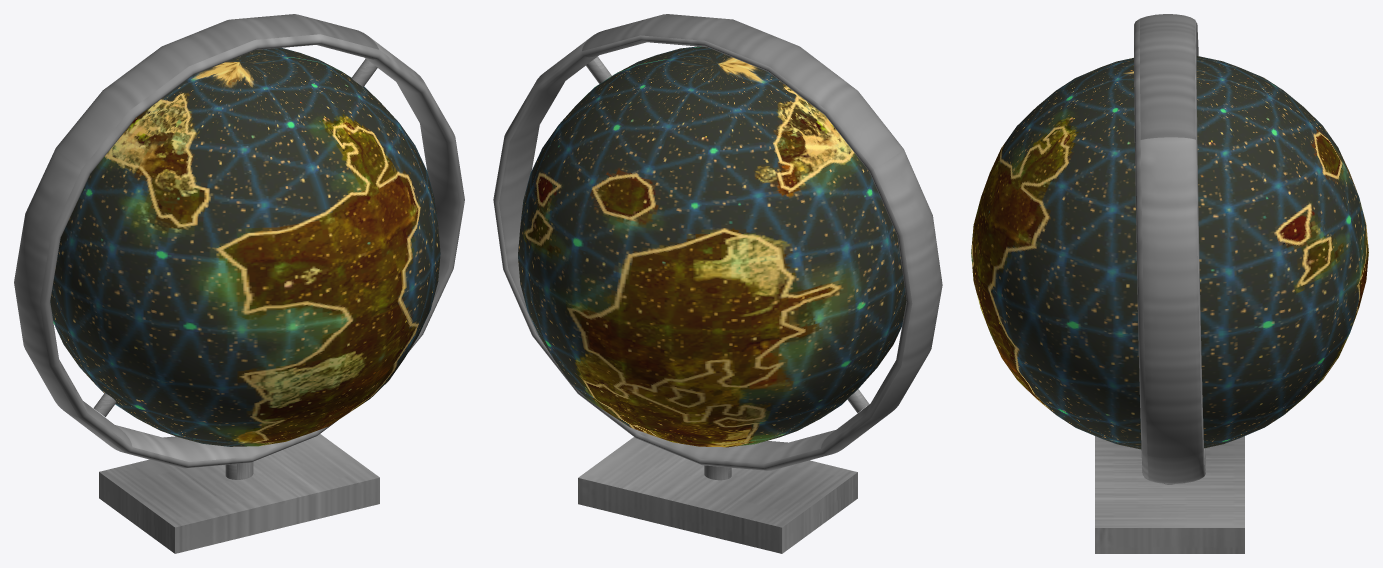
File: Globe.fbx
3 renders of one model, left to right at view 1: azimuth 30°, elevation 25°; view 2: azimuth 150°, elevation 25°; view 3: azimuth 270°, elevation 25°, orthographic.
Visible parts, largest first — view 1: polySurface16; view 2: polySurface16; view 3: polySurface16.
Part boxes in pixels (x1,y1,x2,y2): polySurface16: (14,14,464,553); polySurface16: (493,14,942,553); polySurface16: (971,14,1368,553).
Size of the model in its own units: 6.59 by 6.95 by 5.34.
Materials: 2 (2 with a texture image).
